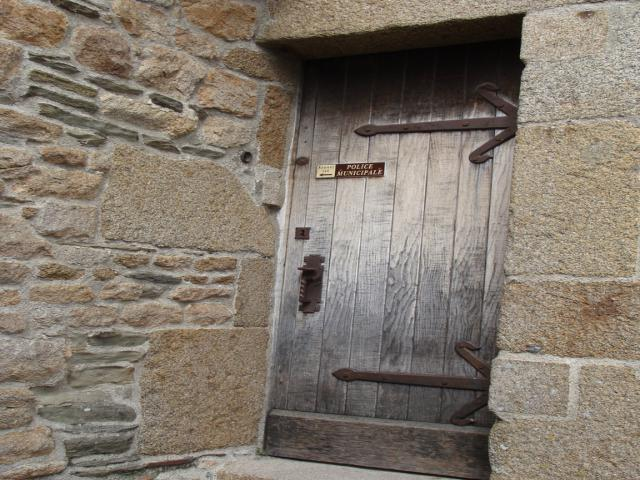Door-handle: (296, 252, 326, 313)
